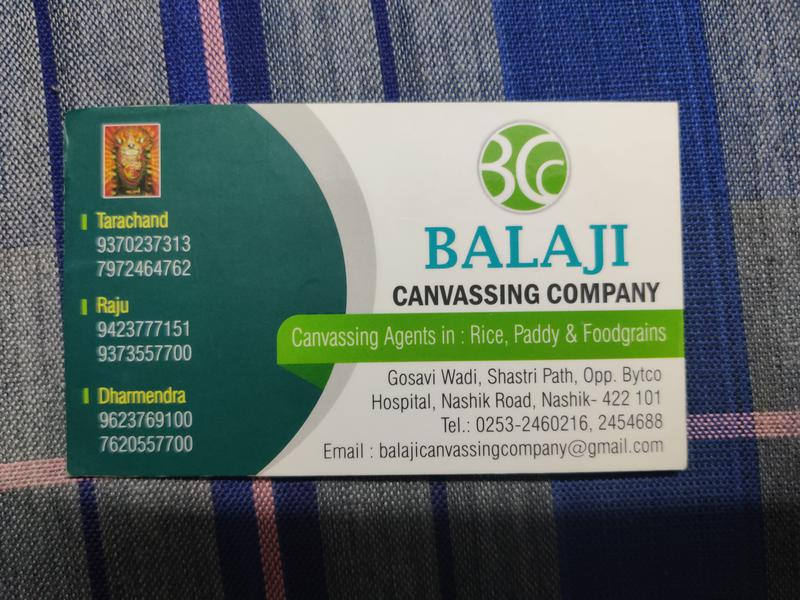card: (61, 102, 692, 478)
